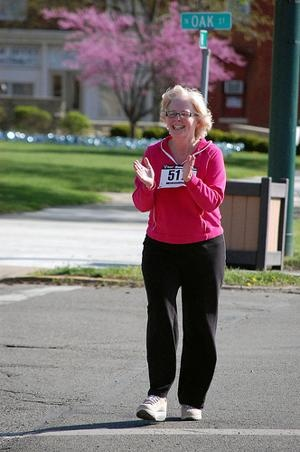person without safety: (126, 84, 228, 426)
